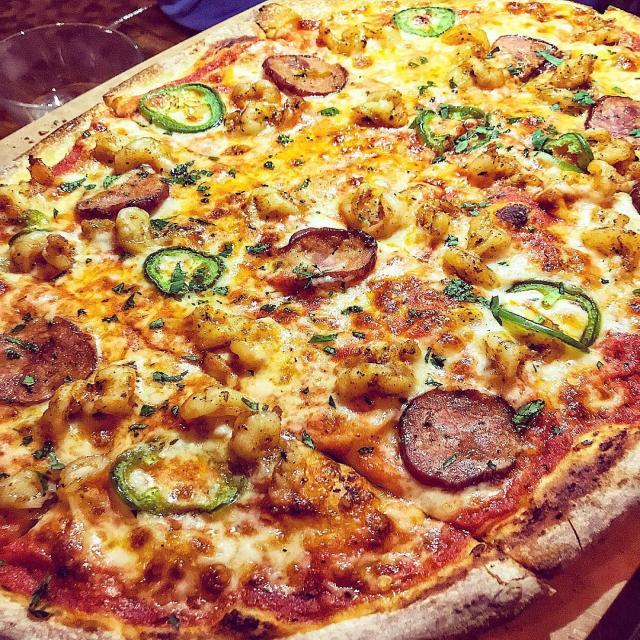pepperoni: (396, 384, 523, 488), (0, 315, 100, 405), (263, 225, 379, 292), (260, 52, 352, 97), (76, 173, 174, 215), (490, 33, 560, 84), (583, 92, 640, 149)
pizza: (0, 0, 640, 640)
